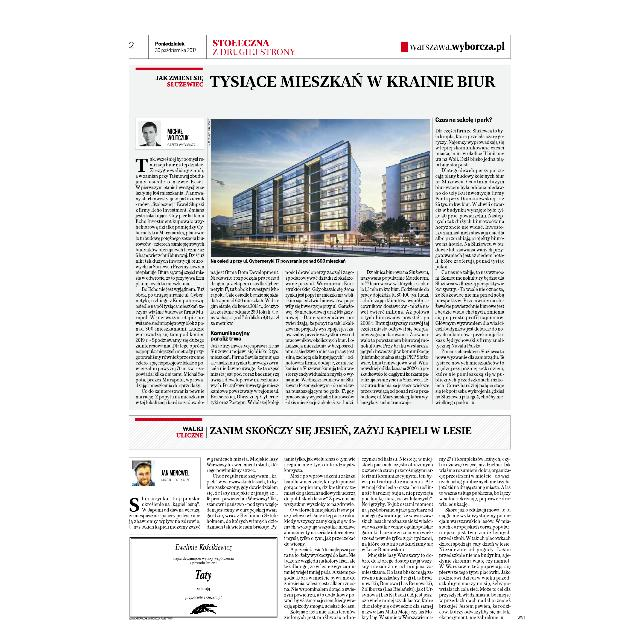article: (132, 66, 508, 407), (128, 412, 512, 624)
